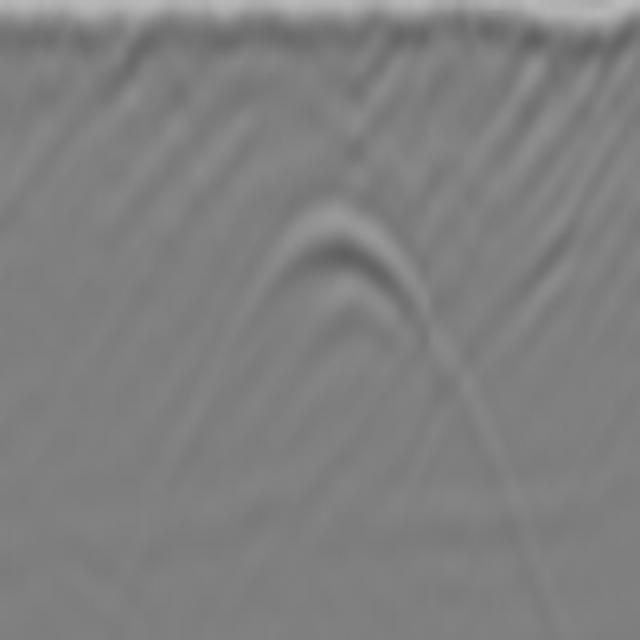hyperbola: (232, 188, 454, 383)
